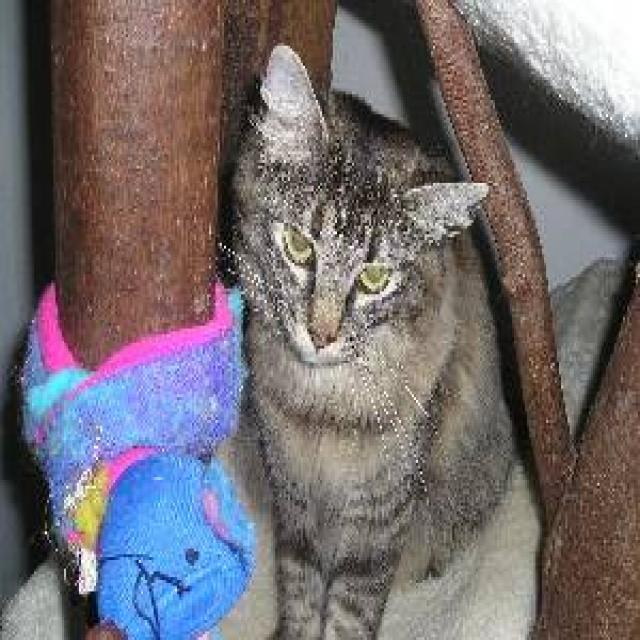cat: (220, 40, 531, 637)
